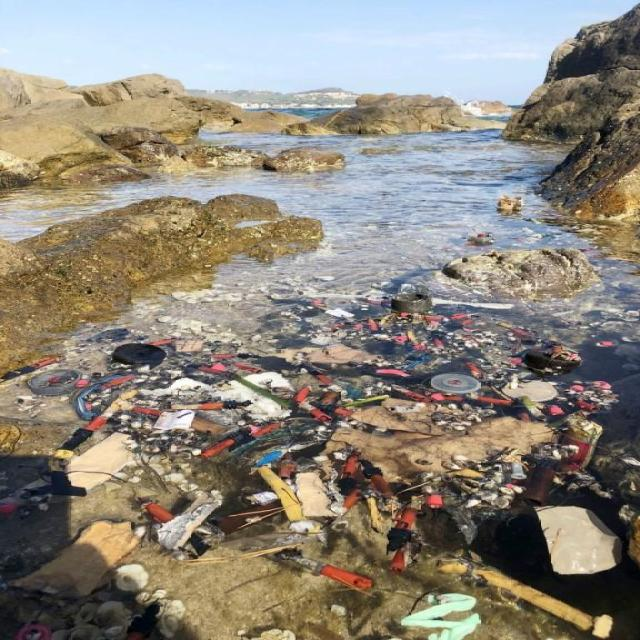garbage: (34, 275, 614, 637)
